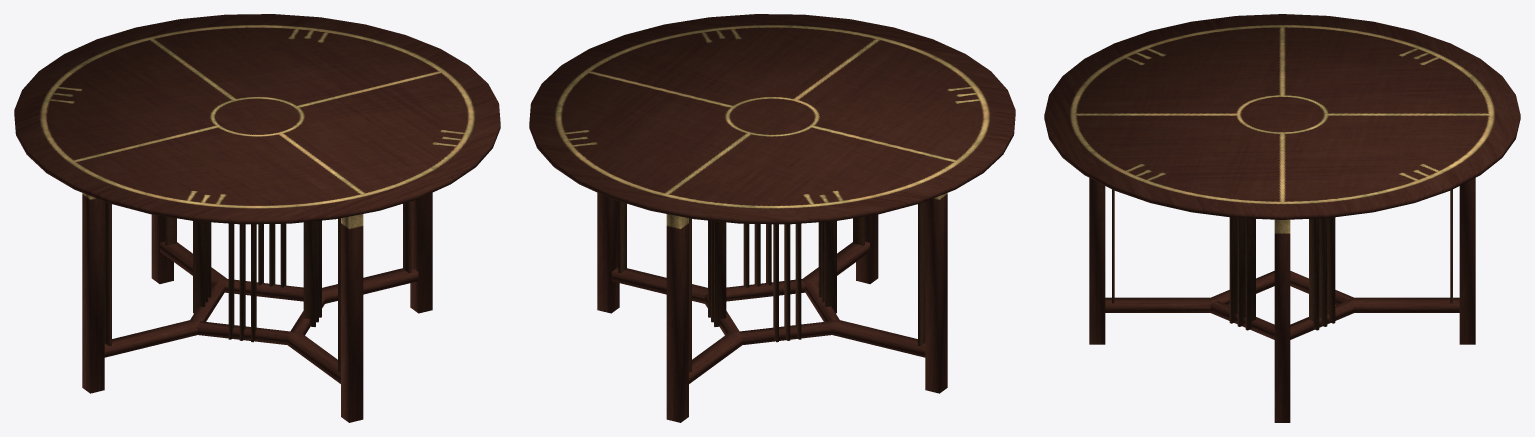
File: low_poly_table.glb
The picture shows the model from 3 angles, left to right: view 1: azimuth 30°, elevation 25°; view 2: azimuth 150°, elevation 25°; view 3: azimuth 270°, elevation 25°; orthographic projection. The views are drawn at different scales.
Parts seen in each view (by area): view 1: Table_Low; view 2: Table_Low; view 3: Table_Low.
Part boxes in pixels (x1=…): Table_Low: x1=14, y1=14, x2=500, y2=422; Table_Low: x1=529, y1=14, x2=1015, y2=422; Table_Low: x1=1044, y1=14, x2=1520, y2=422.
Size of the model in its own units: 2 by 1.05 by 2.
Materials: 1 (1 with a texture image).
